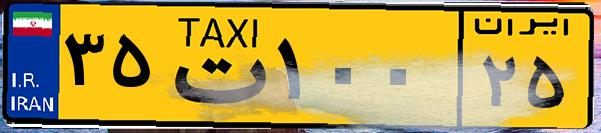0: (385, 28, 445, 110), (330, 28, 385, 110)
1: (270, 28, 330, 110)
2: (475, 38, 525, 113)
3: (57, 26, 110, 100)
5: (525, 38, 570, 115), (110, 28, 158, 98)
ت: (158, 12, 270, 120)
